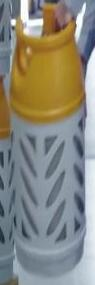cylinder: (1, 0, 95, 285)
